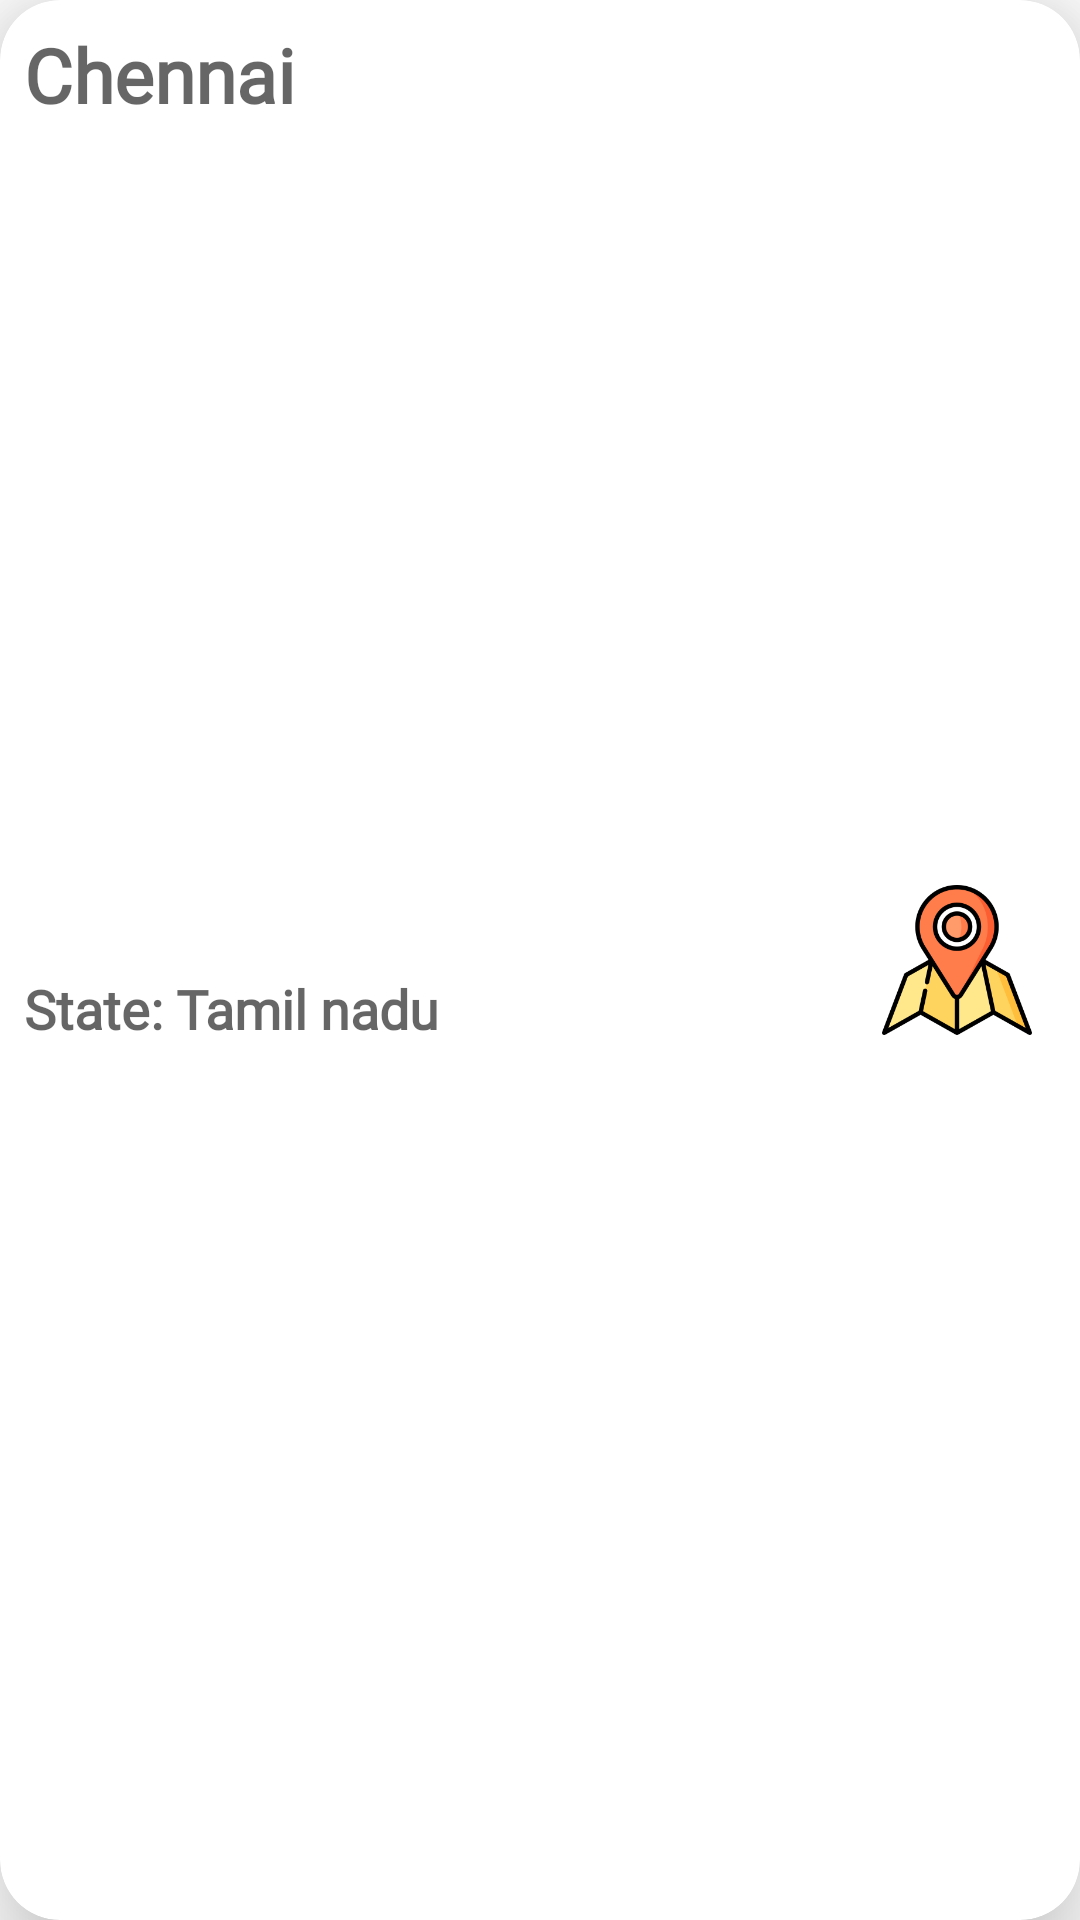

Screen size 1080 × 1920. Icon name, then its center in pixels as (x,y):
location: (957,960)
